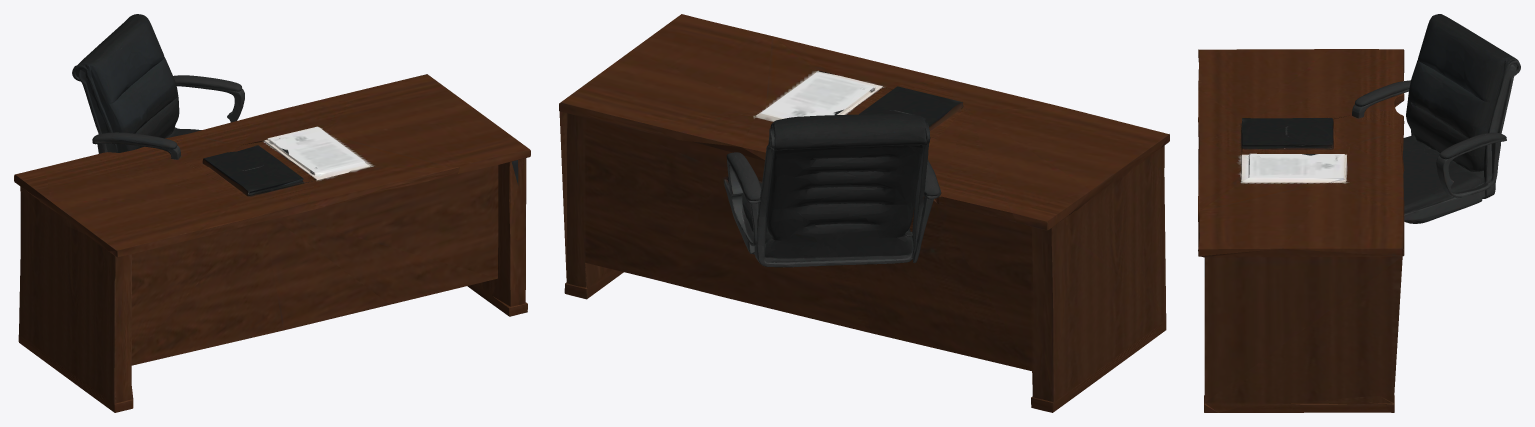
The model's file is prokuror-stoli.glb.
3 views of the same model, side by side, from view 1: azimuth 30°, elevation 25°; view 2: azimuth 150°, elevation 25°; view 3: azimuth 270°, elevation 25° (orthographic). The views are drawn at different scales.
Parts seen in each view (by area): view 1: output_unwrapped; view 2: output_unwrapped; view 3: output_unwrapped.
Boxes of the visible parts, x1,y1,x2,y2 form: output_unwrapped: [14, 14, 530, 412]; output_unwrapped: [559, 14, 1169, 412]; output_unwrapped: [1198, 14, 1520, 412].
Bounding box in the file's own units: 1.8 × 1.02 × 1.22.
Materials: 1 (1 with a texture image).
